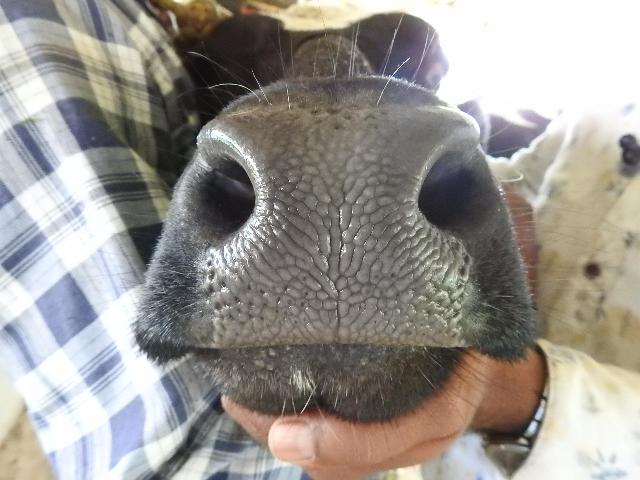Muzzle: (222, 120, 454, 340)
